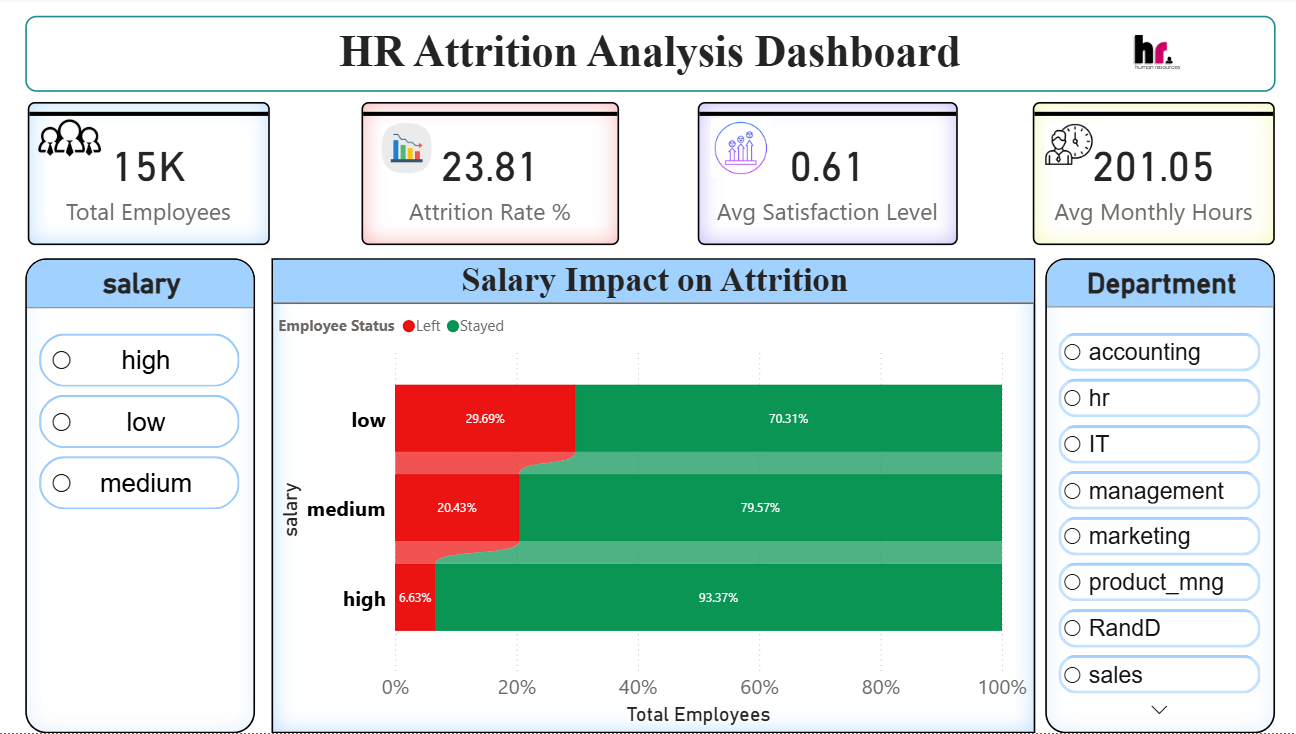

This screenshot's page, from the dashboard's own definition file:
{"tool":"powerbi","page":{"name":"Page 1","canvas":[1280,720],"ordinal":0},"visuals":[{"type":"card","fields":{"Values":["Sheet1.Total Employees"]},"box":[28.3,102.3,236.9,140],"z":0},{"type":"card","fields":{"Values":["Sheet1.Attrition Rate %"]},"box":[354.1,102.3,251.7,140],"z":1000},{"type":"card","fields":{"Values":["Sheet1.Avg Satisfaction Level"]},"box":[683.9,102.3,254.4,140],"z":2000},{"type":"card","fields":{"Values":["Sheet1.Avg Monthly Hours"]},"box":[1011,102.3,236.9,140],"z":3000},{"type":"hundredPercentStackedBarChart","title":"Salary Impact on Attrition","fields":{"Category":["Sheet1.salary"],"Y":["Sheet1.Total Employees"],"Series":["Sheet1.Employee Status"]},"box":[266.6,255.8,747.2,464.5],"z":4000},{"type":"listSlicer","fields":{"Values":["Sheet1.Department"]},"box":[1023.1,255.8,224.8,464.5],"z":5000},{"type":"listSlicer","fields":{"Values":["Sheet1.salary"]},"box":[25.6,255.8,224.8,464.5],"z":6000},{"type":"textbox","box":[25.7,18.3,1222.8,74.6],"z":7000},{"type":"image","box":[1013.7,22,234.8,64.8],"z":8000},{"type":"image","box":[37.9,102.7,62.4,69.7],"z":9000},{"type":"image","box":[342.4,123.5,112.5,48.9],"z":10000},{"type":"image","box":[670.1,118.6,111.3,58.7],"z":11000},{"type":"image","box":[1023.5,116.2,46.5,56.3],"z":12000}]}

Visuals, with their boxes in screenshot pixels (x1, y1, x2, y2), scaled from the page's 1280x720 canvas onto the 1296x734 screenshot:
card - Sheet1.Total Employees: 29,104,269,247
card - Sheet1.Attrition Rate %: 359,104,613,247
card - Sheet1.Avg Satisfaction Level: 692,104,950,247
card - Sheet1.Avg Monthly Hours: 1024,104,1263,247
"Salary Impact on Attrition" hundredPercentStackedBarChart: 270,261,1026,733
listSlicer - Sheet1.Department: 1036,261,1263,733
listSlicer - Sheet1.salary: 26,261,254,733
textbox: 26,19,1264,95
image: 1026,22,1264,88
image: 38,105,102,176
image: 347,126,461,176
image: 678,121,791,181
image: 1036,118,1083,176
